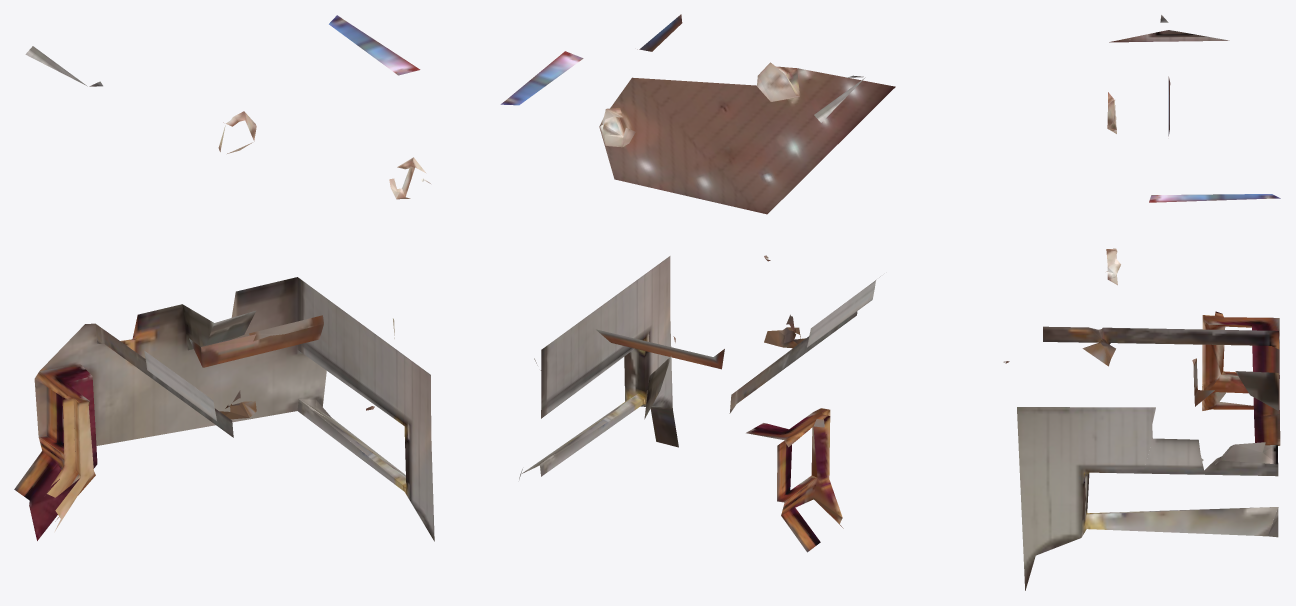
Rendered from pulpit-facade.glb.
3 renders of one model, left to right at view 1: azimuth 30°, elevation 25°; view 2: azimuth 150°, elevation 25°; view 3: azimuth 270°, elevation 25°, orthographic. The views are drawn at different scales.
Parts seen in each view (by area): view 1: Node; view 2: Node; view 3: Node.
Boxes of the visible parts, left/top/right/bottom form: Node: left=14, top=15, right=434, bottom=541; Node: left=500, top=14, right=895, bottom=552; Node: left=1003, top=15, right=1280, bottom=590.
Size of the model in its own units: 3.58 by 5.49 by 3.57.
9 materials, 9 textured.
